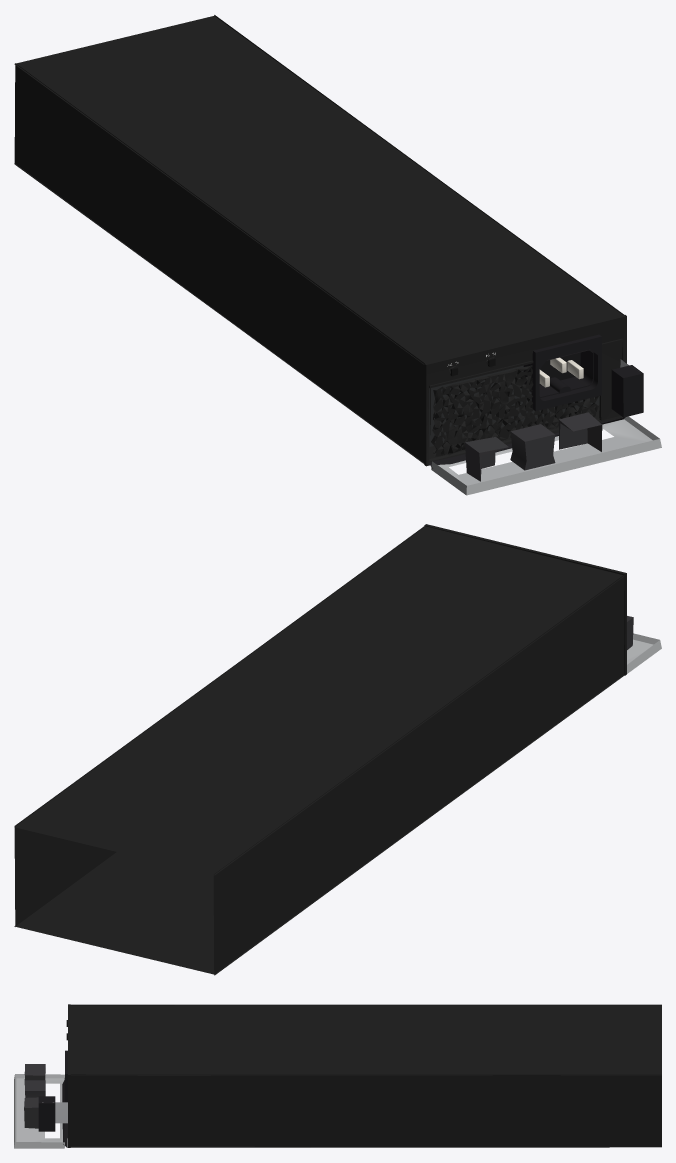
The model's file is PWR-C1-715WAC-P.far.glb.
3 views of the same model, one above another, from view 1: azimuth 30°, elevation 25°; view 2: azimuth 150°, elevation 25°; view 3: azimuth 270°, elevation 25° (orthographic). The views are drawn at different scales.
Parts seen in each view (by area): view 1: Body_far; view 2: Body_far; view 3: Body_far.
Part boxes in pixels (x1=…): Body_far: x1=14, y1=15, x2=661, y2=495; Body_far: x1=14, y1=524, x2=661, y2=975; Body_far: x1=14, y1=1004, x2=661, y2=1148.
Size of the model in its own units: 0.083 by 0.0409 by 0.3219.
2 materials, 1 textured.
